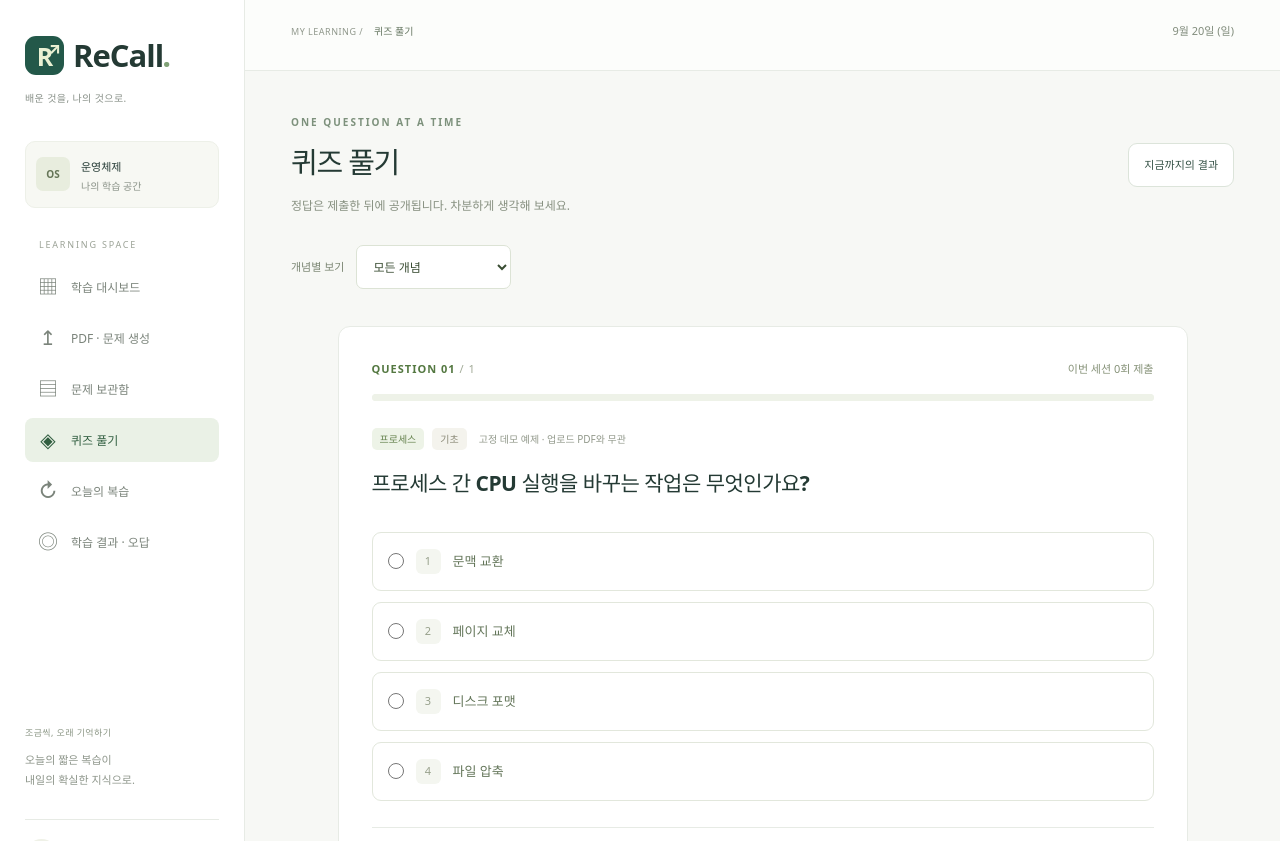
Test: ReCall real API workflows › handles stale question conflicts by requiring an explicit refresh
Expected: the heading "프로세스 간 CPU 실행을 바꾸는 작업은 무엇인가요?" is shown, [372, 469, 809, 497]
Step 1. Click the radio button labelled "1 문맥 교환" → (396, 561), box [388, 553, 404, 569]
(page scrolled)
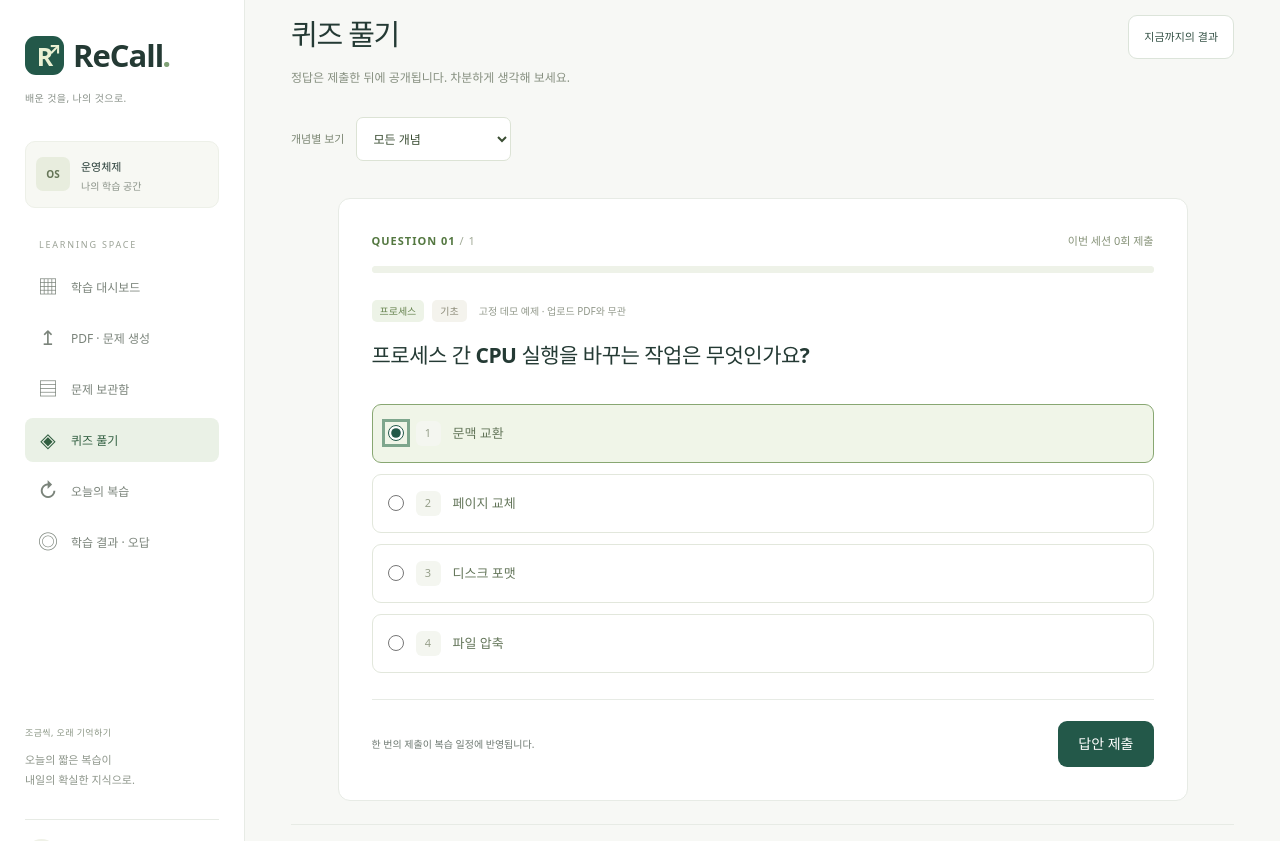
Step 2. Click the button "답안 제출" → (1106, 744), box [1058, 721, 1154, 767]
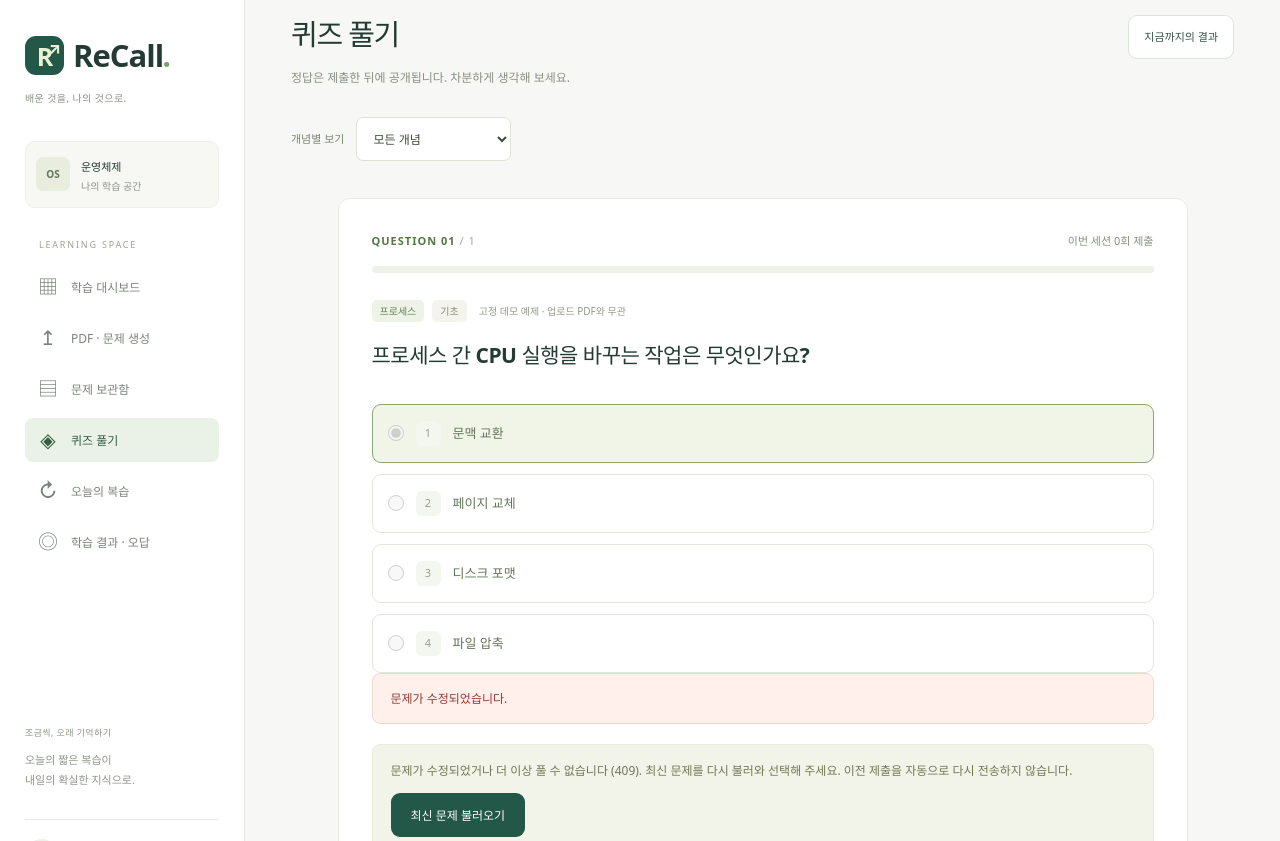
Expected: the radio button labelled "1 문맥 교환" is disabled, [388, 425, 404, 441]
Now the button "최신 문제 불러오기" is shown
Step 3. Click the button "최신 문제 불러오기" → (458, 816), box [390, 794, 525, 838]
(page scrolled)
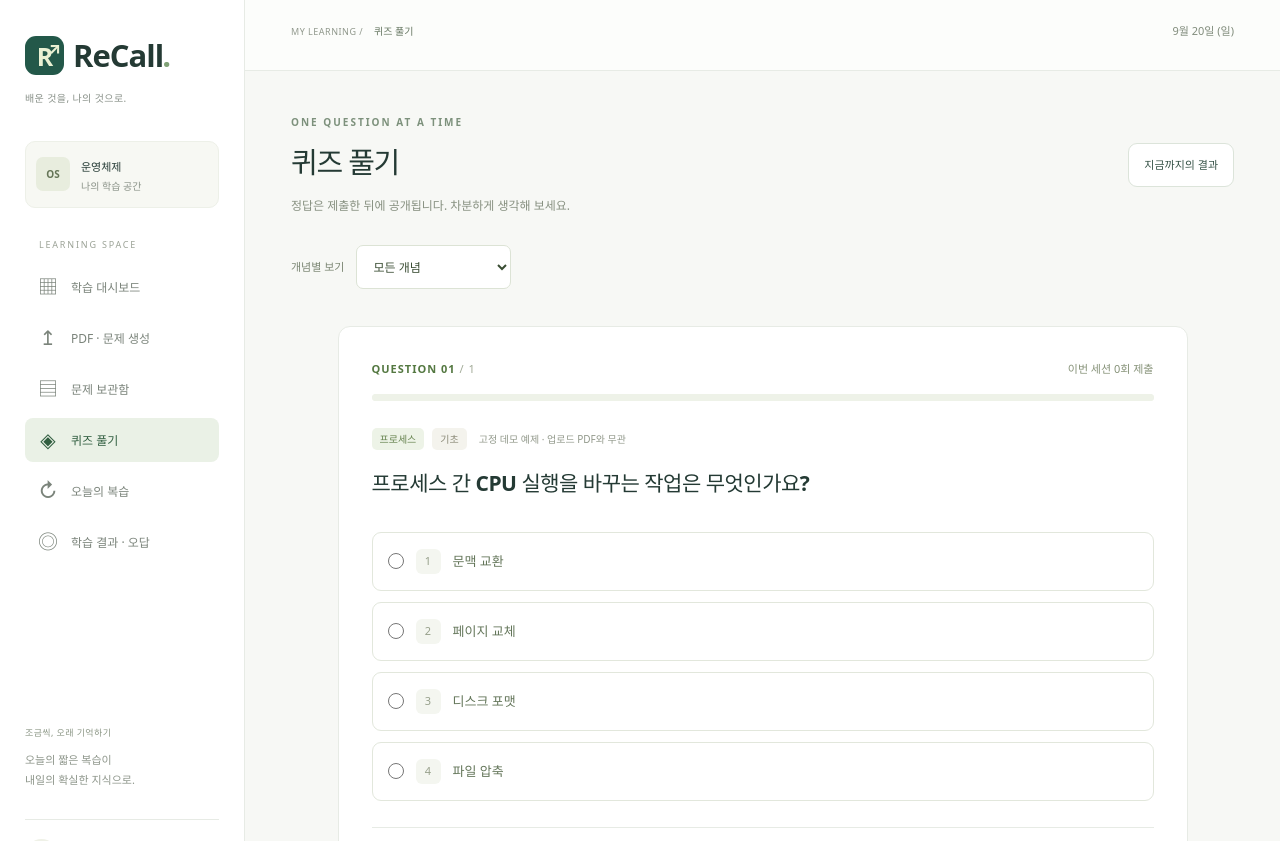
Now the radio button labelled "1 문맥 교환" is not checked, box [388, 553, 404, 569]
